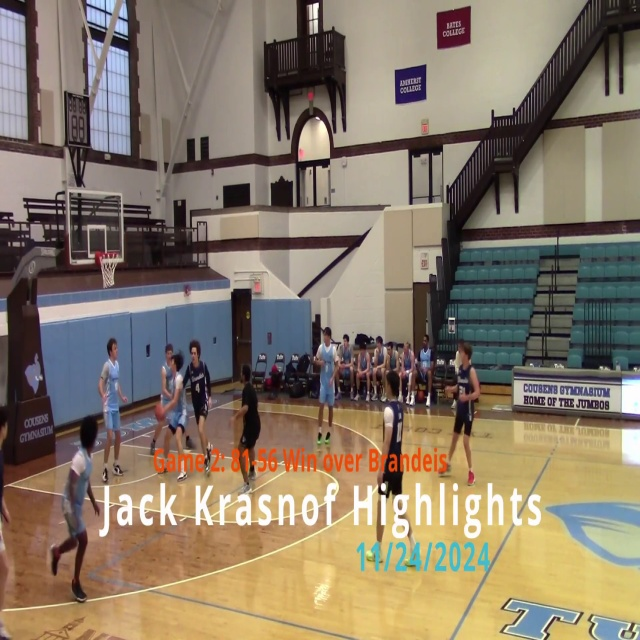Basketball: (154, 403, 165, 421), (383, 406, 394, 424), (365, 550, 374, 561)
